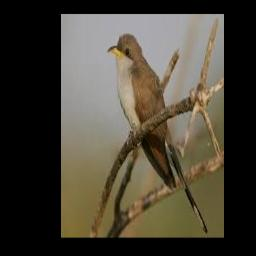Cuckoo: (108, 33, 208, 233)
